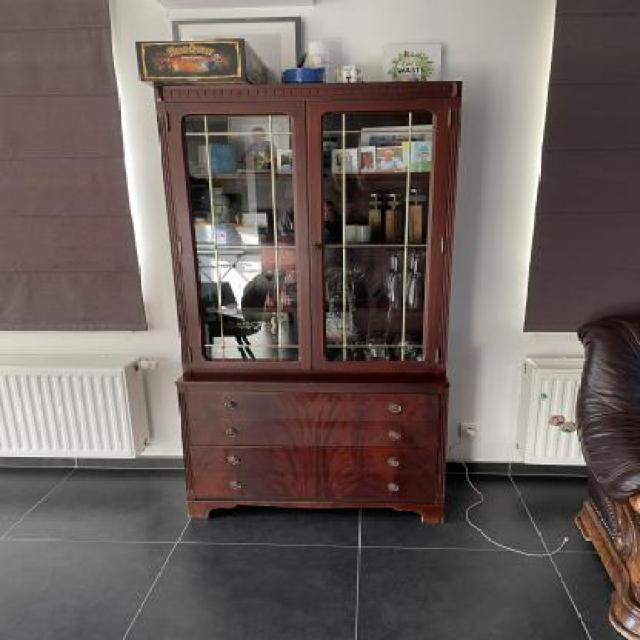Floor: (0, 466, 629, 640)
